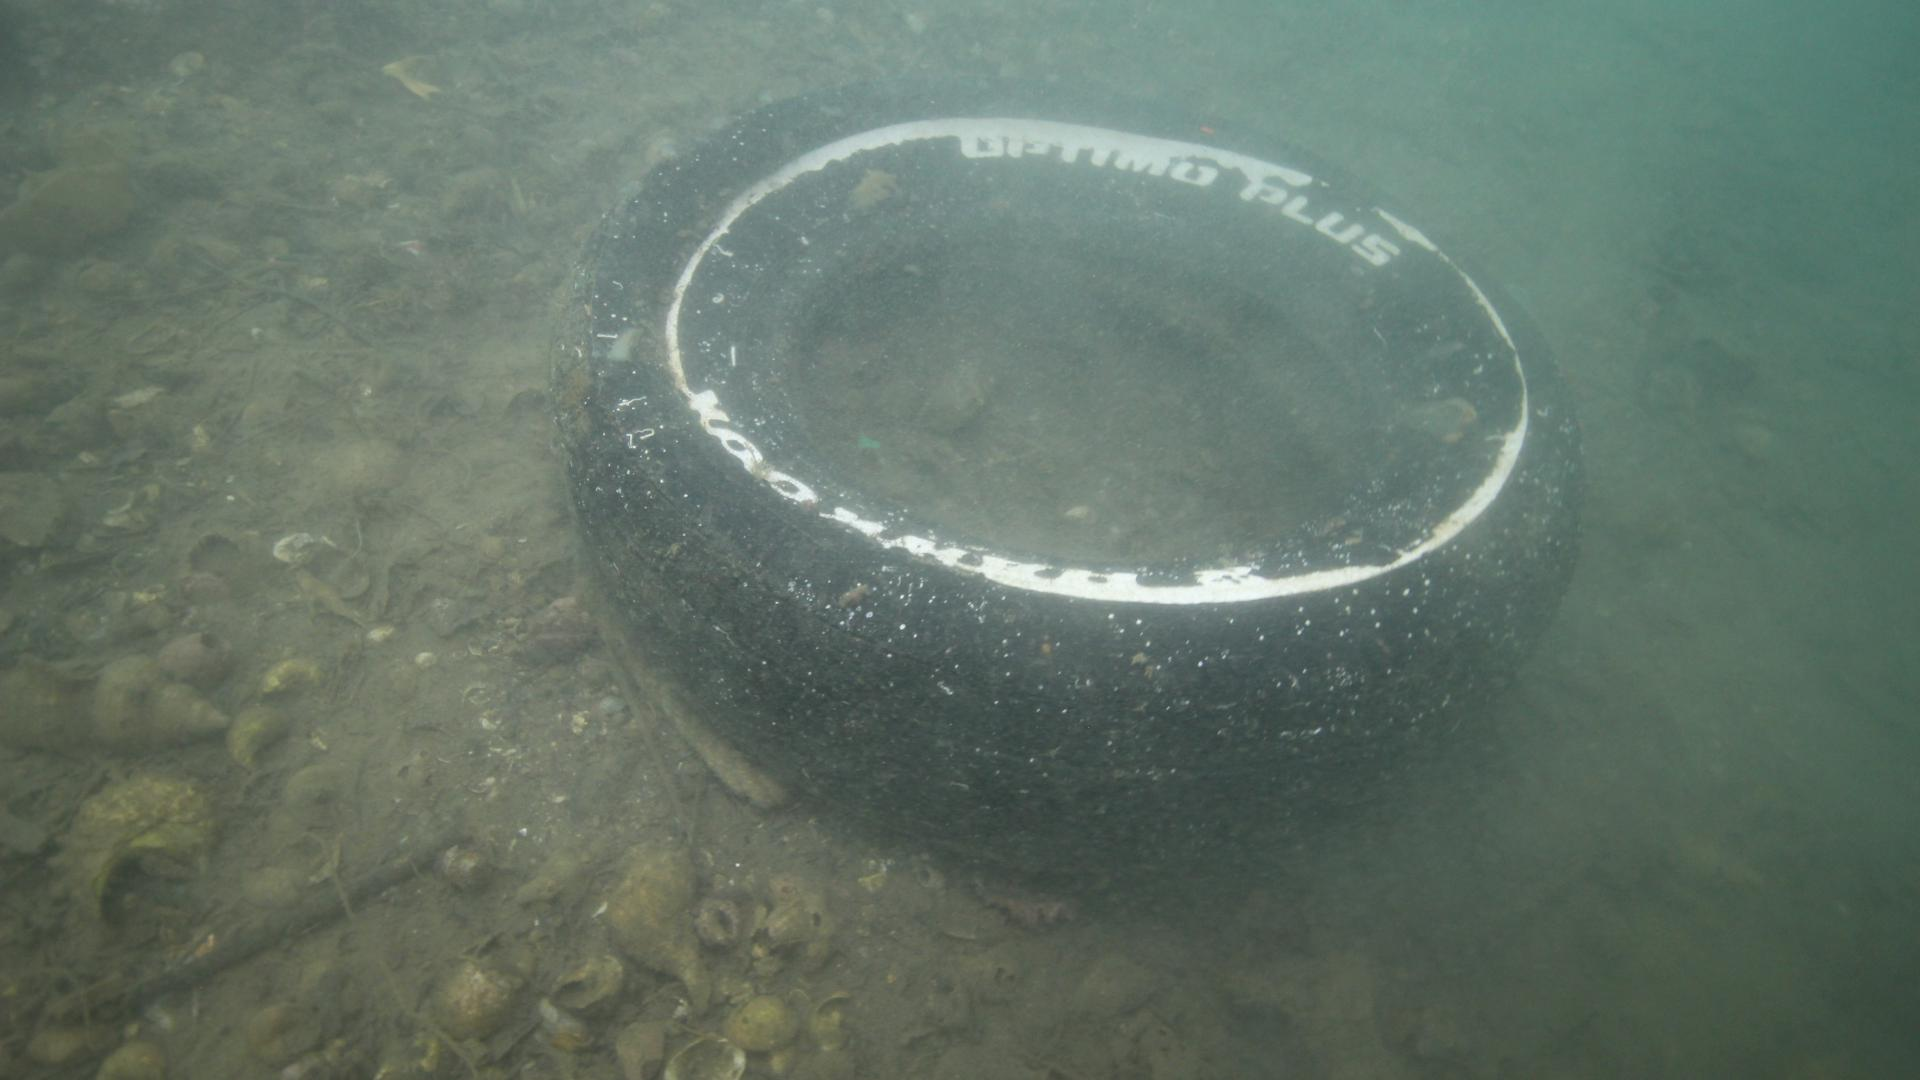tire: (547, 73, 1582, 876)
